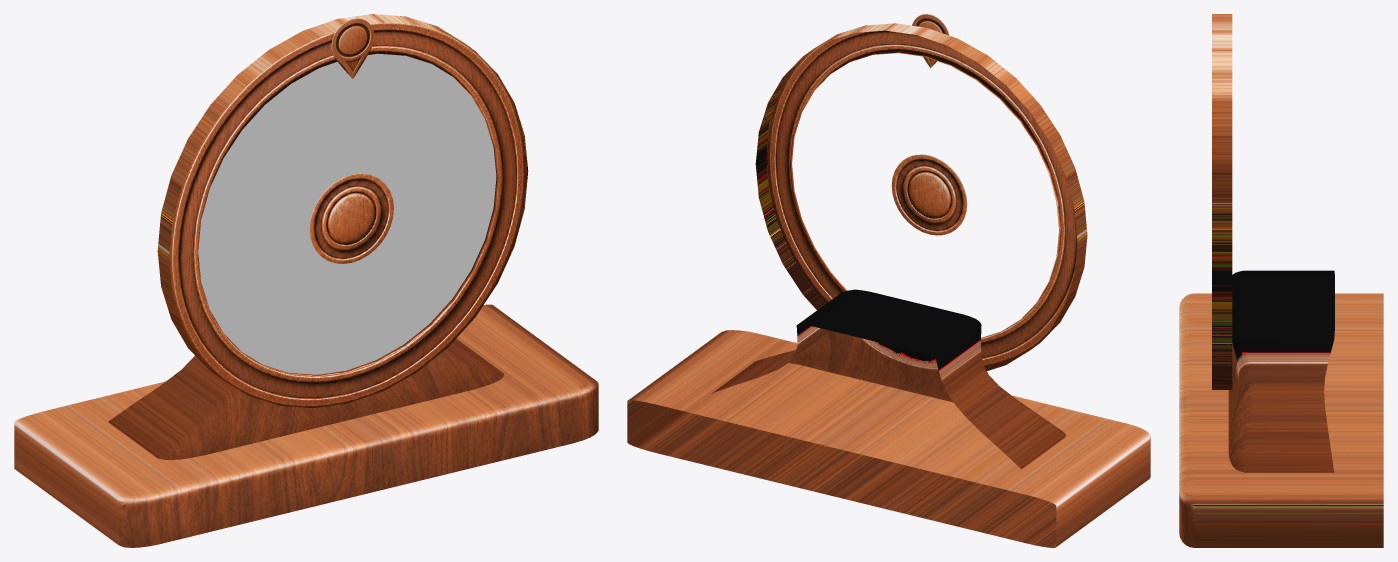
The model's file is Wheel.glb.
3 views of the same model, side by side, from view 1: azimuth 30°, elevation 25°; view 2: azimuth 150°, elevation 25°; view 3: azimuth 270°, elevation 25° (orthographic). The views are drawn at different scales.
Parts seen in each view (by area): view 1: Base, Wheel; view 2: Base; view 3: Base.
Part boxes in pixels (left/top/right/bottom): Base: left=14, top=14, right=598, bottom=547; Wheel: left=198, top=53, right=496, bottom=374; Base: left=627, top=14, right=1150, bottom=547; Base: left=1179, top=14, right=1383, bottom=547.
Size of the model in its own units: 2 by 1.87 by 0.8163.
3 materials, 3 textured.
